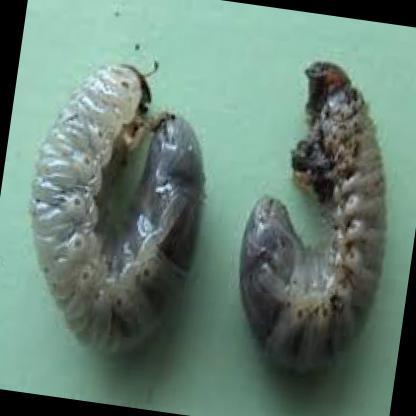root grubs: (31, 63, 203, 359), (238, 62, 388, 379)
